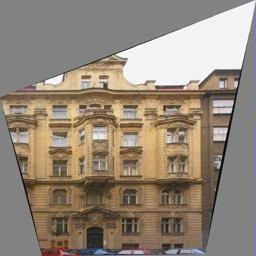building: (25, 49, 204, 245)
